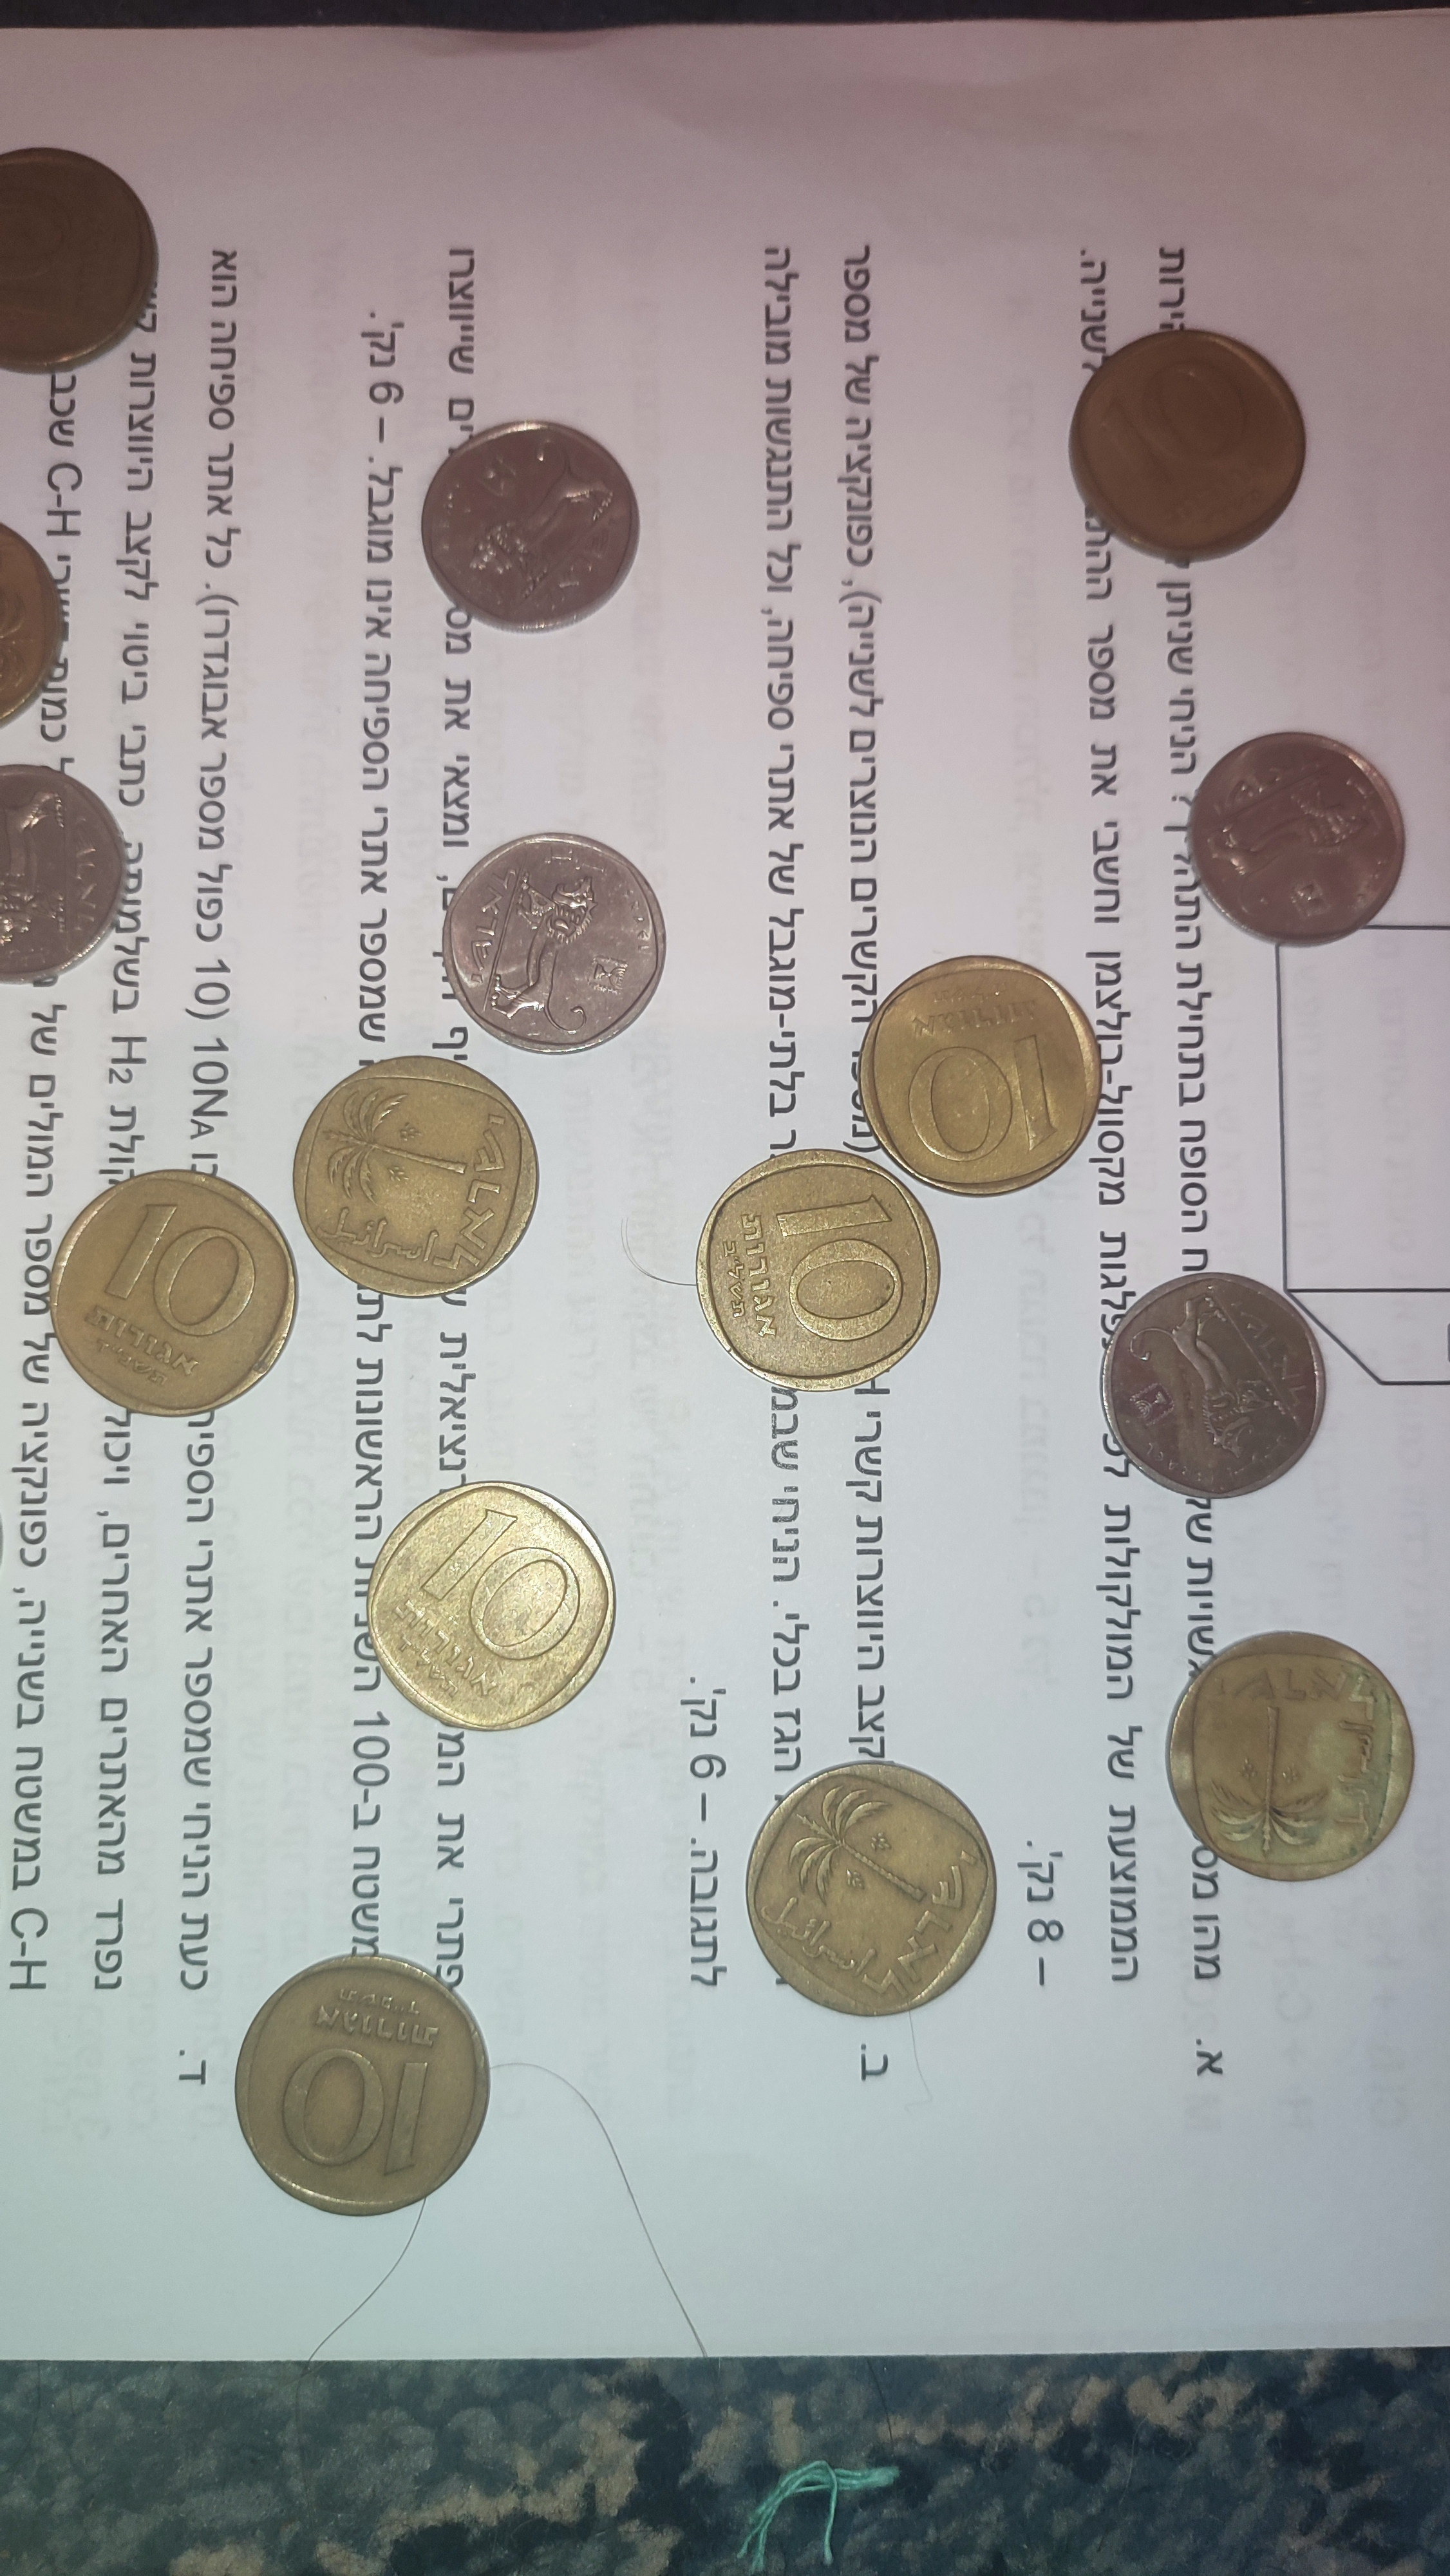1/2 old sheqel: (1096, 1269, 1330, 1500), (439, 830, 670, 1058), (1179, 729, 1409, 950), (419, 419, 642, 635), (0, 763, 131, 985)
10 old agora brown: (230, 1951, 495, 2222), (743, 1759, 1003, 2020), (1165, 1628, 1420, 1888), (362, 1479, 617, 1736), (690, 1145, 946, 1398), (44, 1168, 299, 1419), (286, 1053, 543, 1300), (856, 948, 1107, 1200), (1065, 326, 1310, 566), (0, 142, 159, 375)
